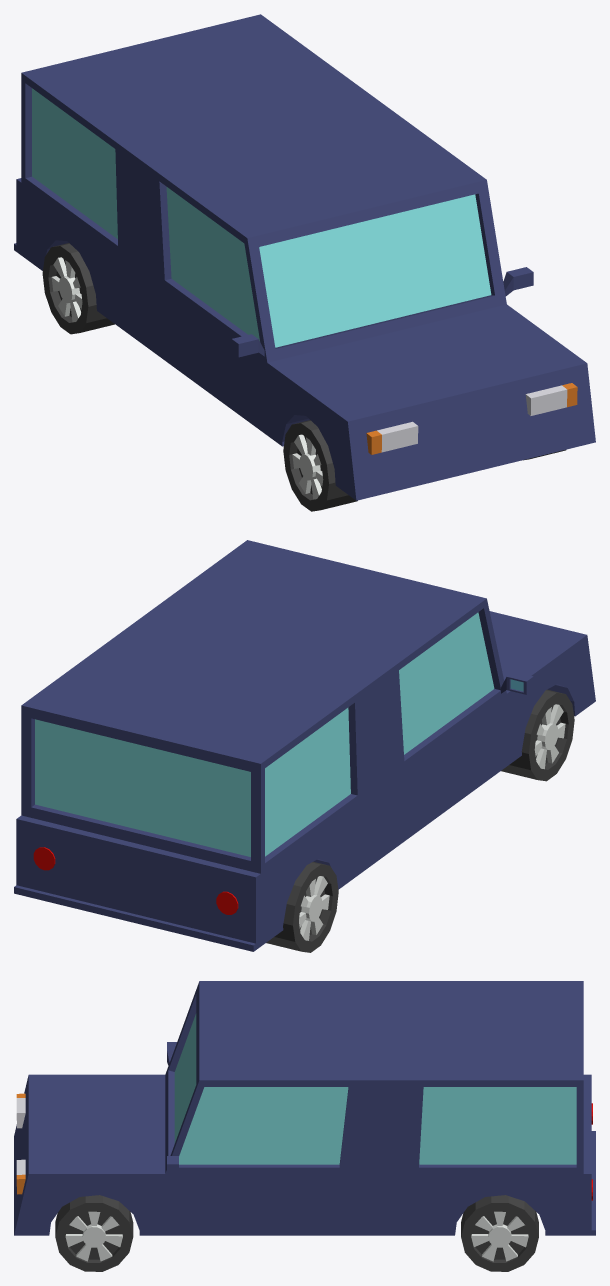
The model's file is Car1(Old).fbx.
3 views of the same model, one above another, from view 1: azimuth 30°, elevation 25°; view 2: azimuth 150°, elevation 25°; view 3: azimuth 270°, elevation 25° (orthographic). The views are drawn at different scales.
Parts seen in each view (by area): view 1: Main, RRightTire, FRightTire; view 2: Main, RRightTire, FRightTire; view 3: Main, FLeftTire, RLeftTire.
Part boxes in pixels (x1=…): Main: x1=14, y1=14, x2=595, y2=500; RRightTire: x1=42, y1=243, x2=114, y2=334; FRightTire: x1=283, y1=420, x2=357, y2=511; Main: x1=14, y1=540, x2=595, y2=951; RRightTire: x1=266, y1=861, x2=338, y2=952; FRightTire: x1=501, y1=689, x2=574, y2=781; Main: x1=14, y1=981, x2=595, y2=1235; FLeftTire: x1=55, y1=1195, x2=133, y2=1271; RLeftTire: x1=461, y1=1195, x2=538, y2=1271.
Bounding box in the file's own units: 122 × 88.44 × 245.
